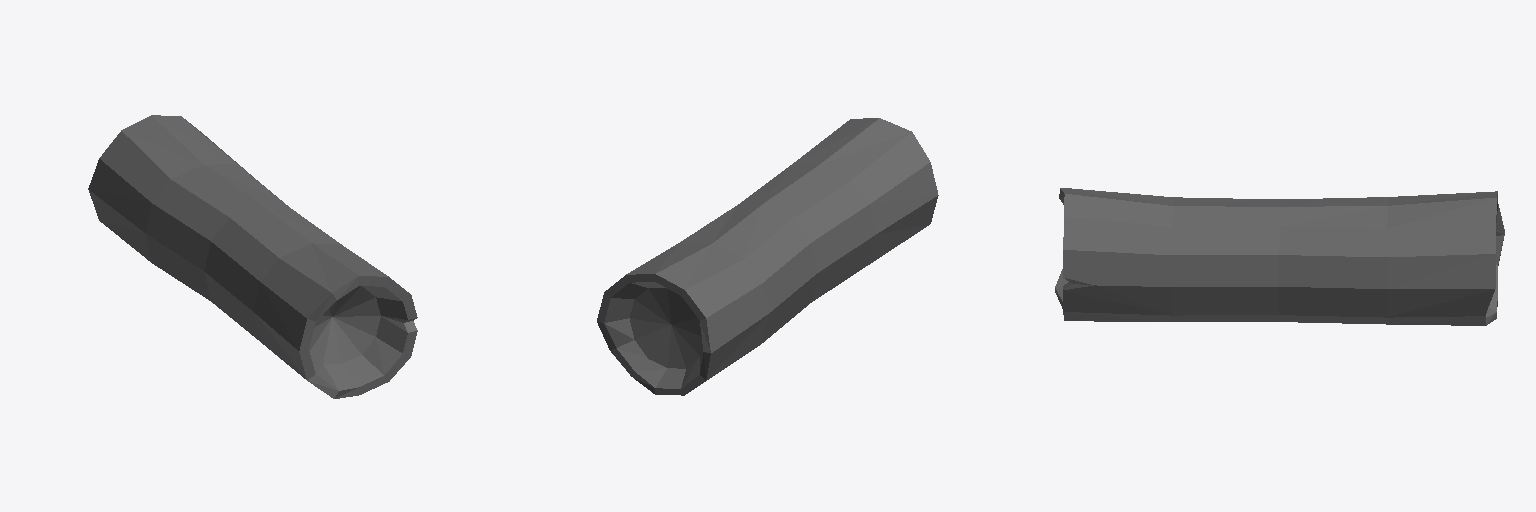
File: Log_2.obj
The picture shows the model from 3 angles: view 1: azimuth 30°, elevation 25°; view 2: azimuth 150°, elevation 25°; view 3: azimuth 270°, elevation 25°; orthographic projection.
Visible parts, largest first — view 1: Cylinder007; view 2: Cylinder007; view 3: Cylinder007.
Boxes of the visible parts, <box> form: Cylinder007: <box>88,115,417,398</box>; Cylinder007: <box>597,118,938,395</box>; Cylinder007: <box>1055,188,1504,325</box>.
Bounding box in the file's own units: 1.56 × 1.41 × 4.76.